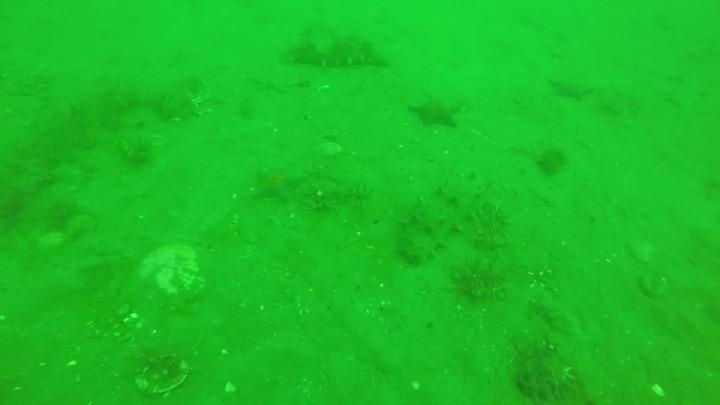echinus: (533, 146, 569, 178)
holothurian: (395, 173, 497, 267), (283, 33, 392, 72)
scallop: (136, 243, 207, 304)
starfish: (251, 163, 306, 205), (407, 93, 462, 132), (547, 73, 597, 104)
